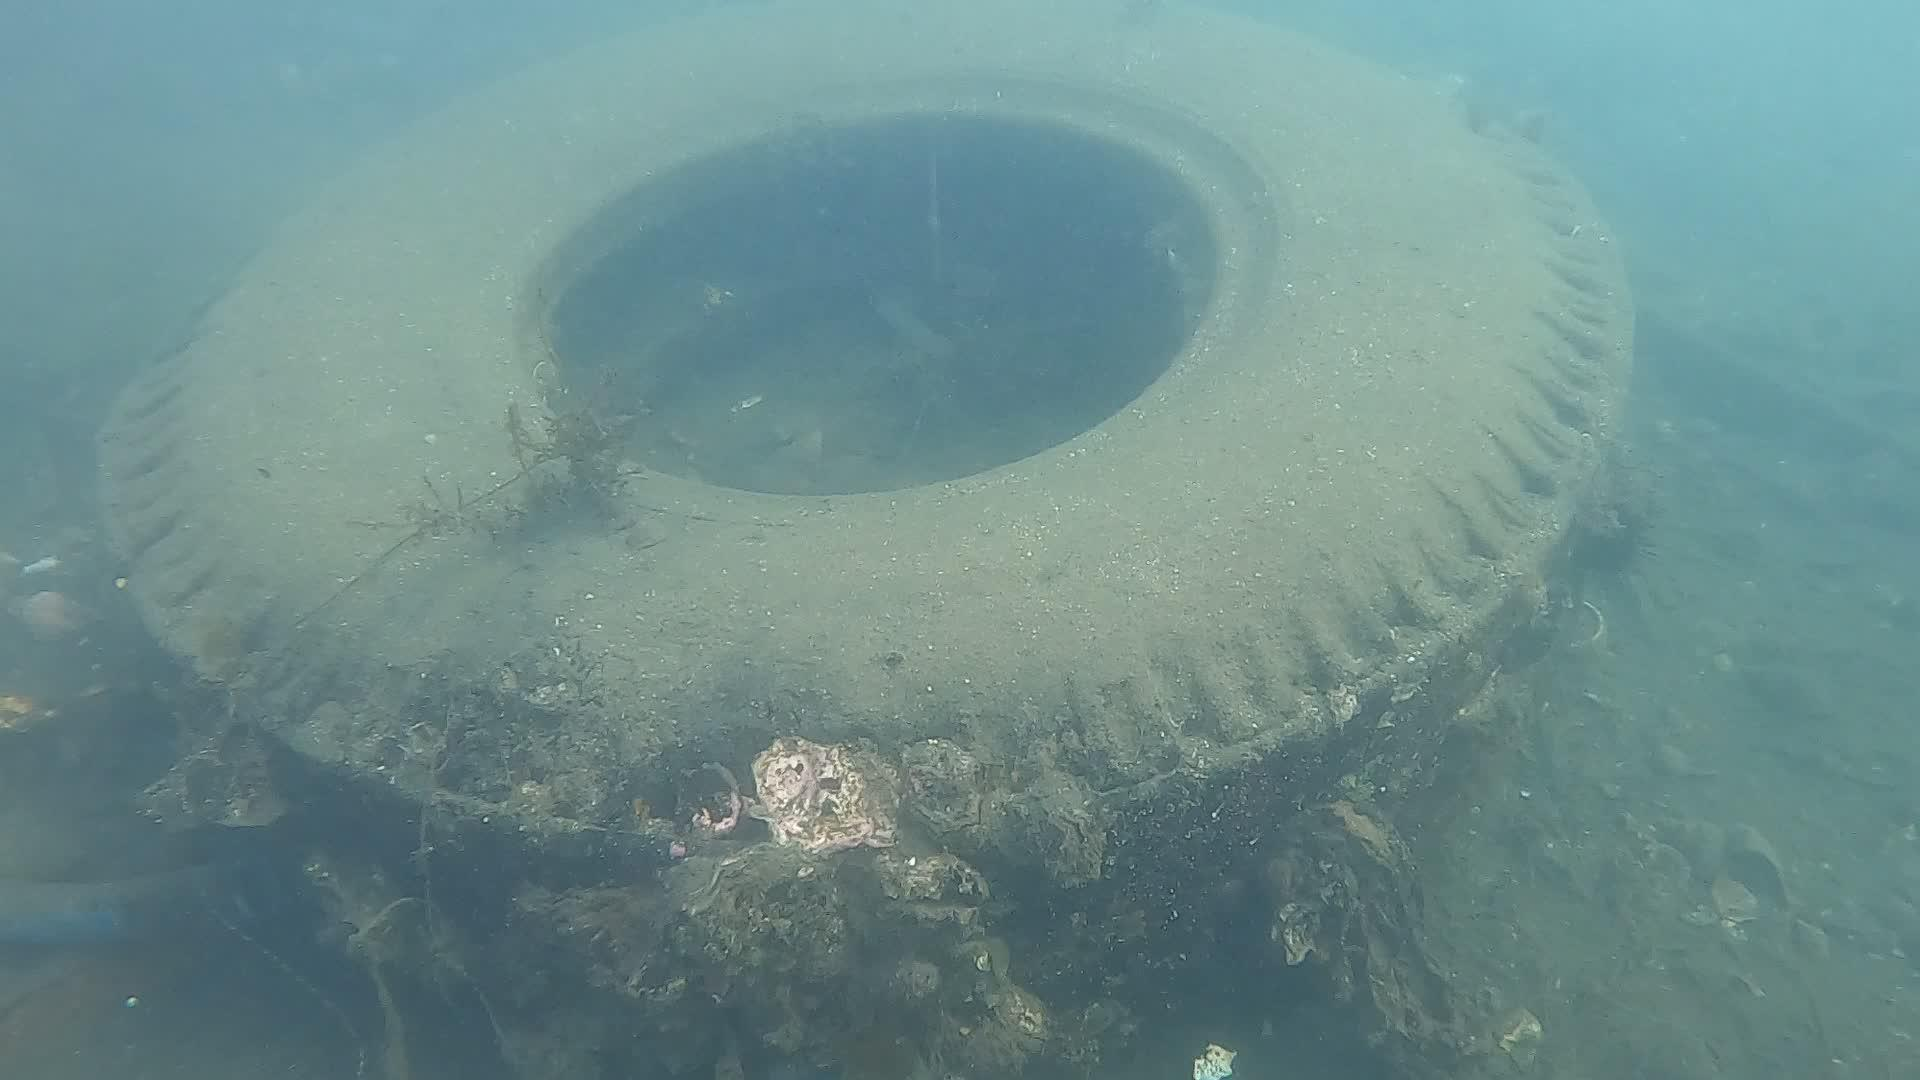tire: (96, 7, 1639, 957)
